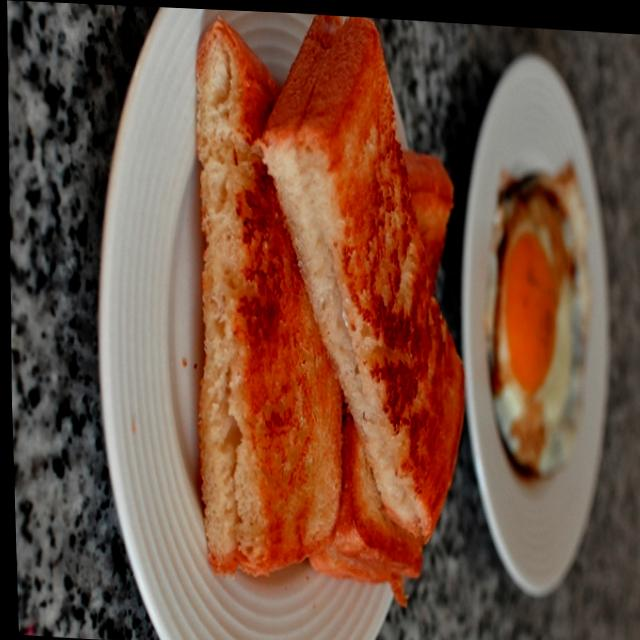面包点心: (91, 6, 498, 640)
